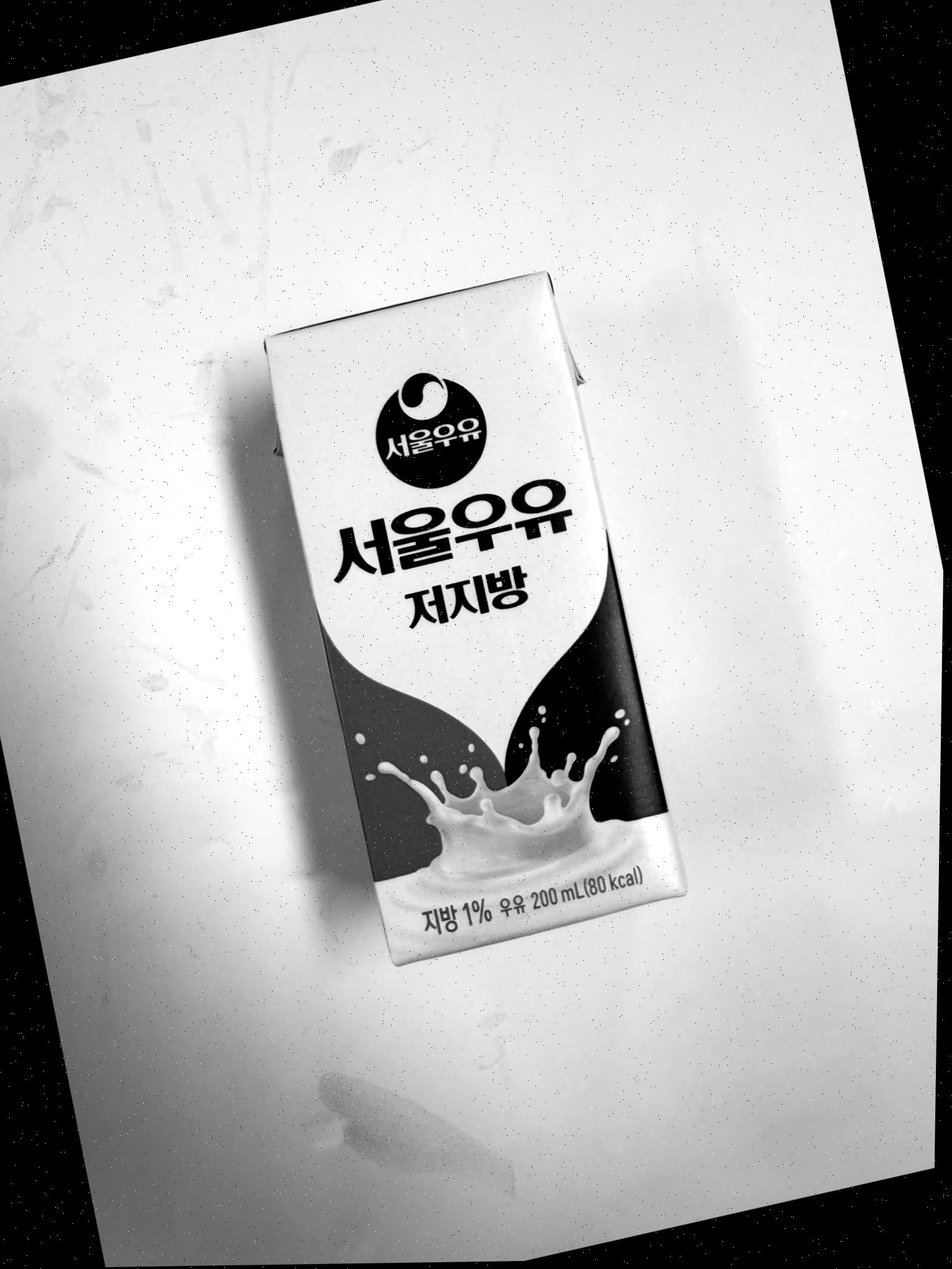milk_blue: (267, 272, 686, 964)
